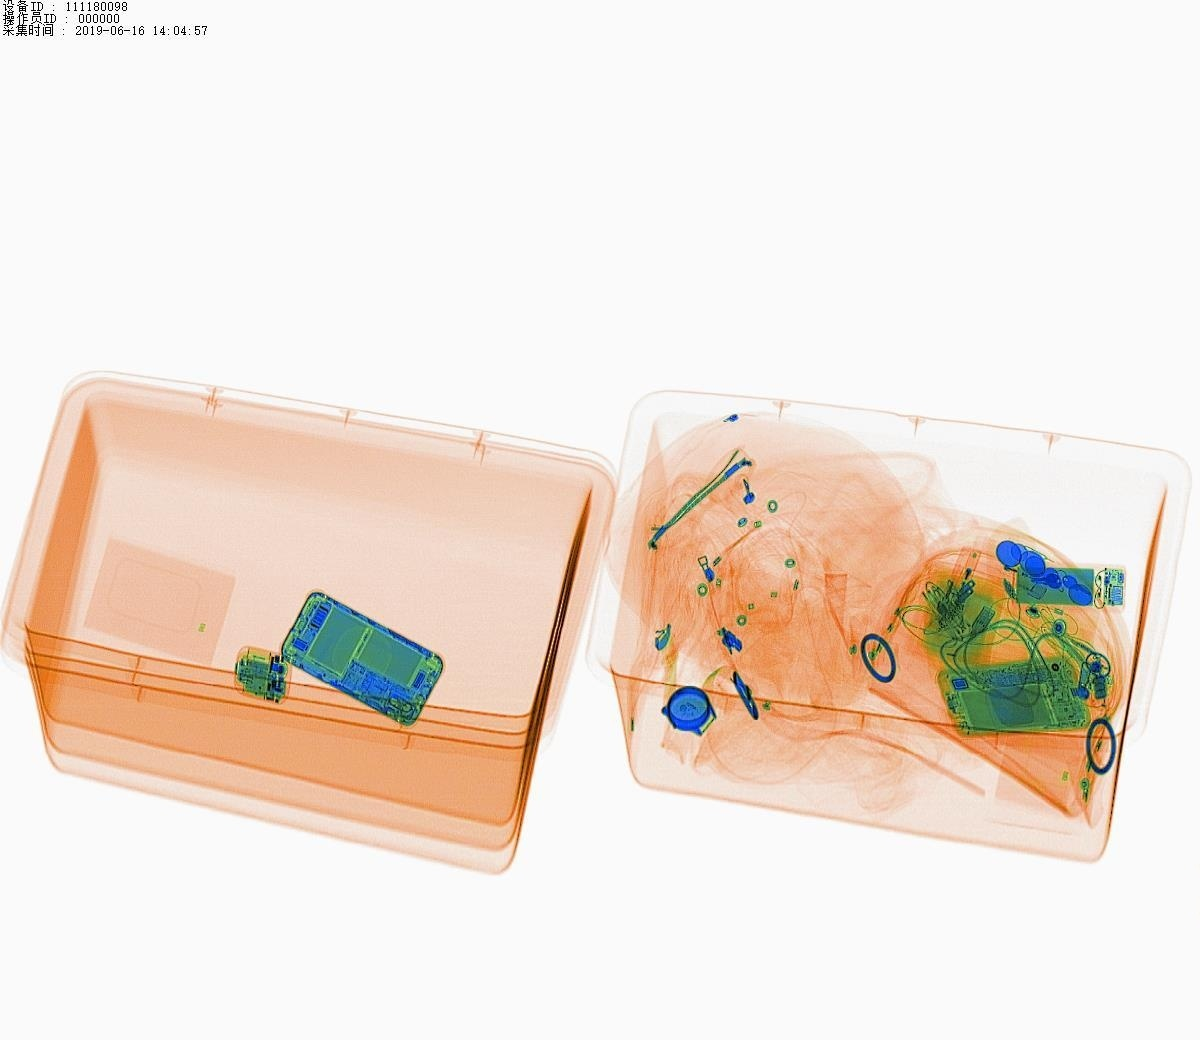NonmetallicFire: (978, 543, 1056, 609), (943, 540, 990, 625)
